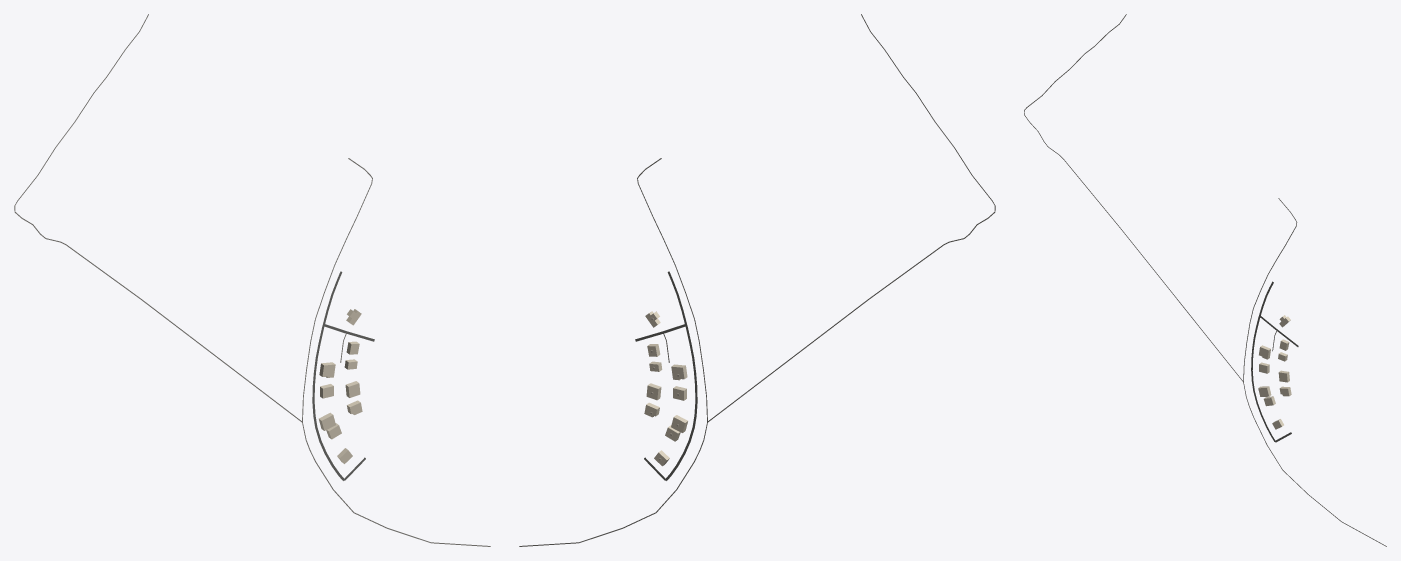
The model's file is historic-palestine-04_22_3460_3161.glb.
The picture shows the model from 3 angles, left to right: view 1: azimuth 30°, elevation 25°; view 2: azimuth 150°, elevation 25°; view 3: azimuth 330°, elevation 25°; orthographic projection. The views are drawn at different scales.
Parts seen in each view (by area): view 1: Road; view 2: Road; view 3: Road.
Boxes of the visible parts, x1,y1,x2,y2 form: Road: (14, 14, 490, 546); Road: (519, 14, 995, 546); Road: (1024, 14, 1386, 546).
Bounding box in the file's own units: 679 × 839 × 8.7.
